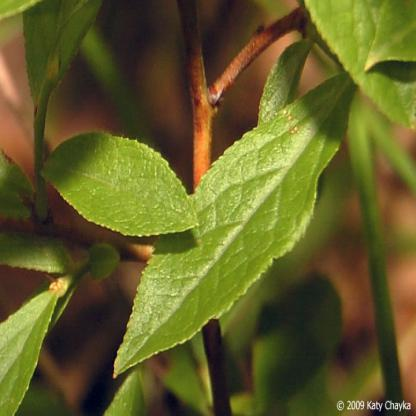blueberry leaf: (103, 70, 360, 380), (36, 129, 202, 242)
